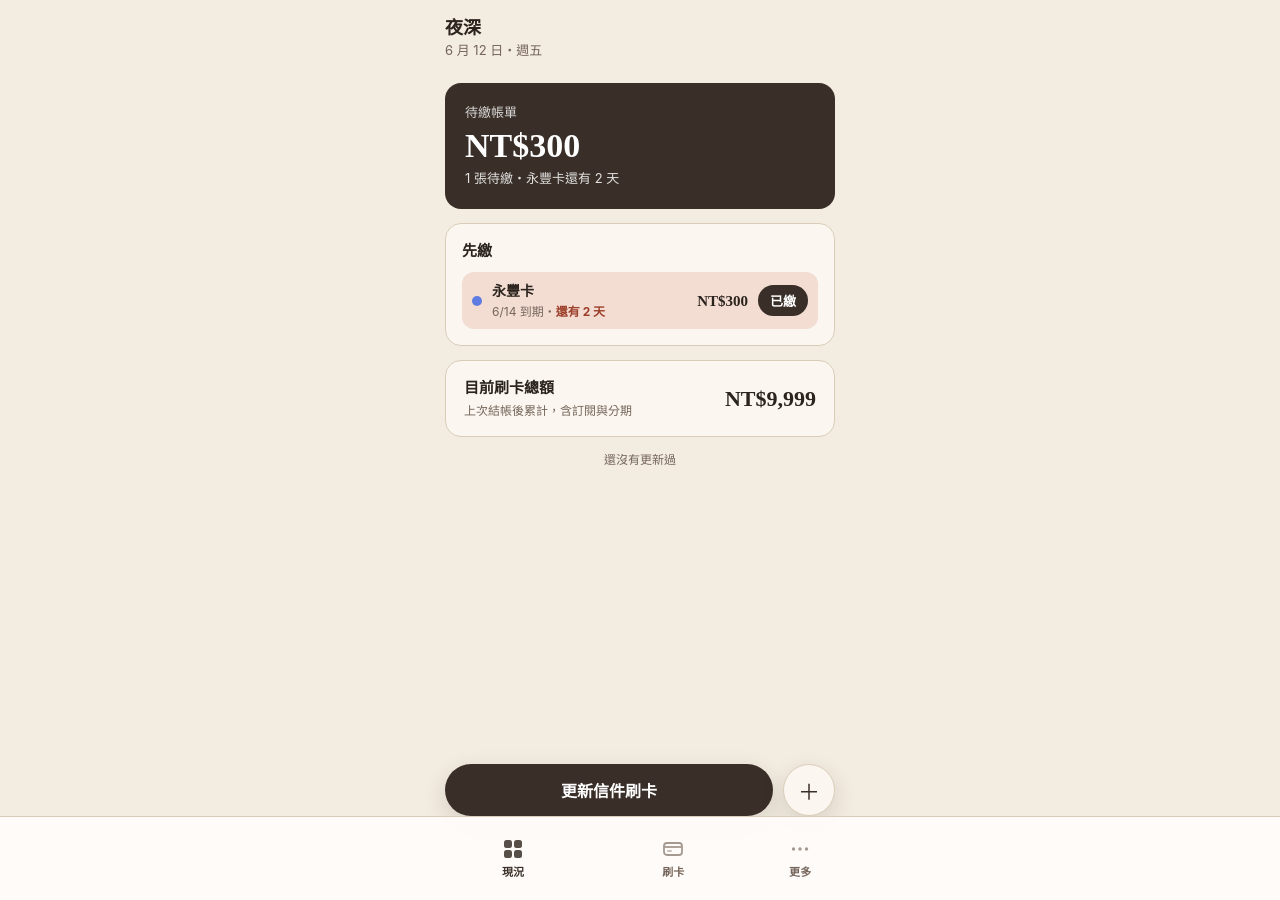
刷卡記錄：篩選後的合計 › 篩選特定卡別時，合計只加總該卡的記錄
Click the button "刷卡": (673, 858) [593,826,753,890]
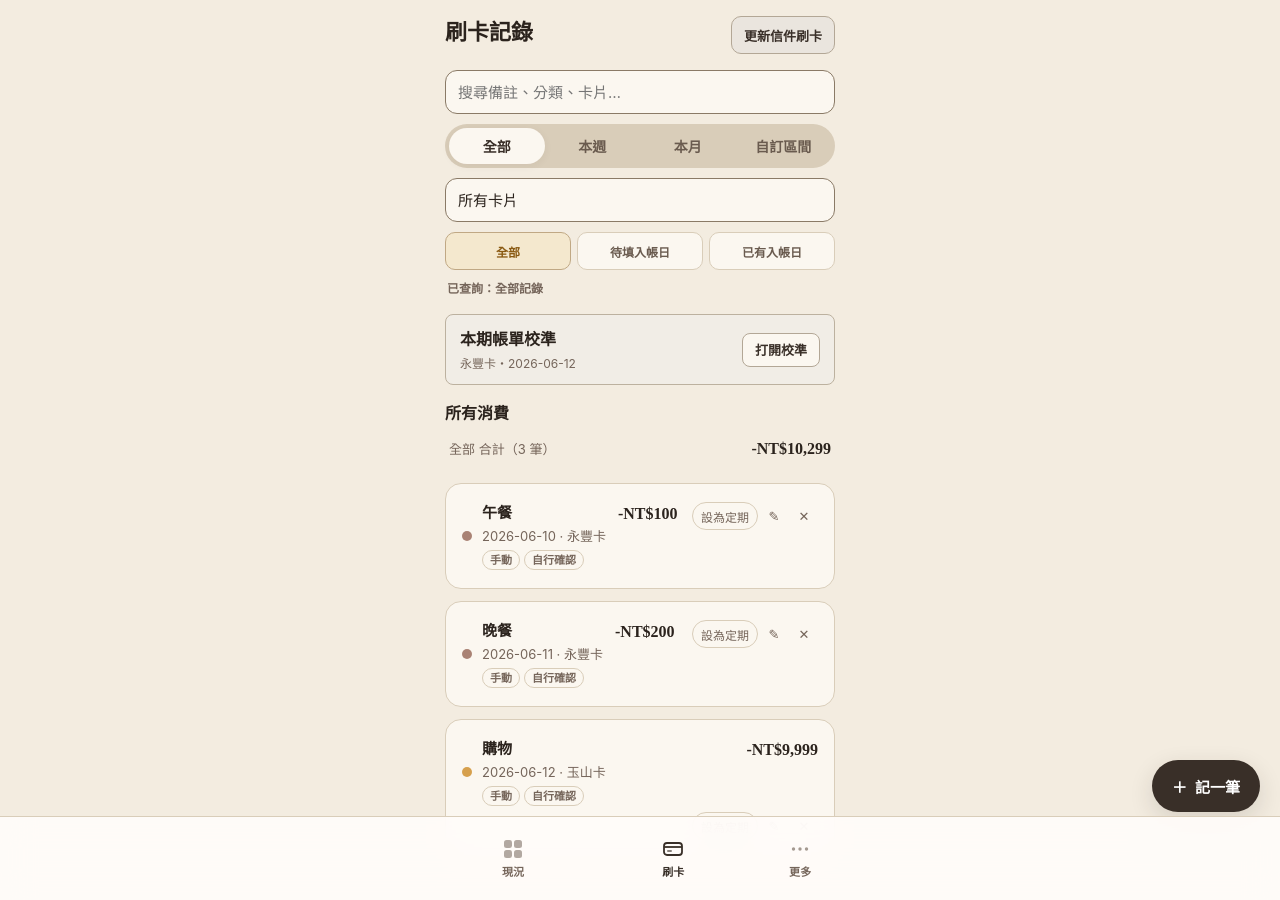
Check: the text with class "tx-total-amount" reads "-NT$10,299", box [751,437,831,461]
Select "永豐卡" in the dropdown with class "tx-card-select": (640, 200) [445,178,835,222]
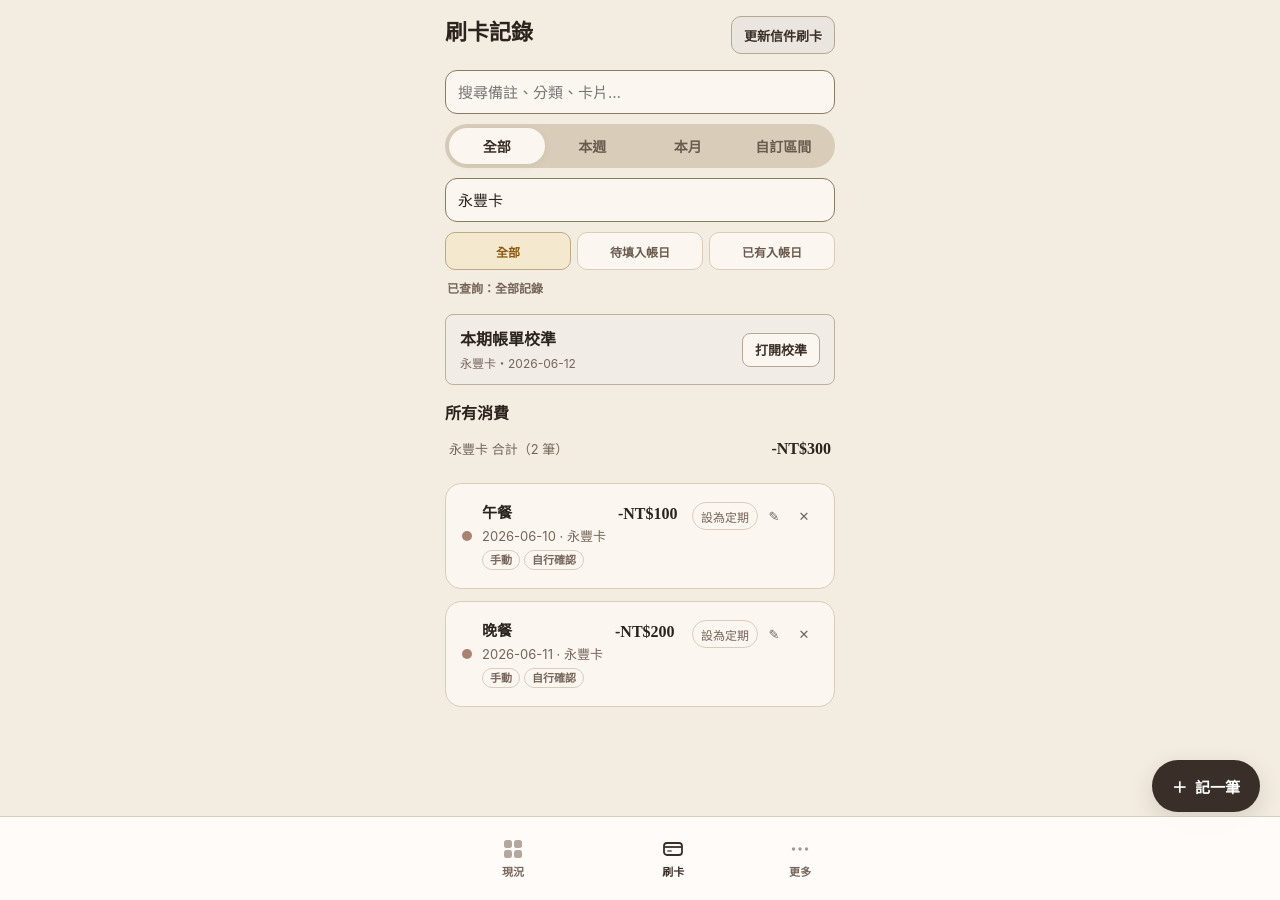
Check: the text with class "tx-total-label" shows "永豐卡", box [449,441,488,457]
Check: the text with class "tx-total-amount" reads "-NT$300", box [771,437,831,461]
